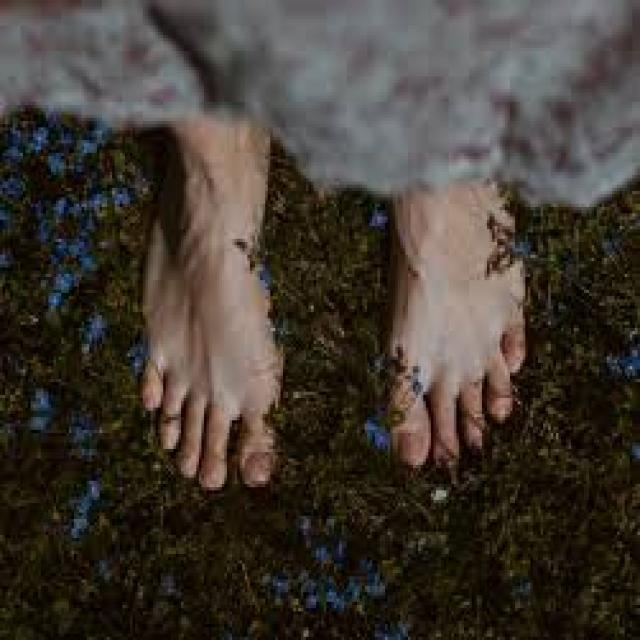No_Shoe: (134, 132, 278, 488)
